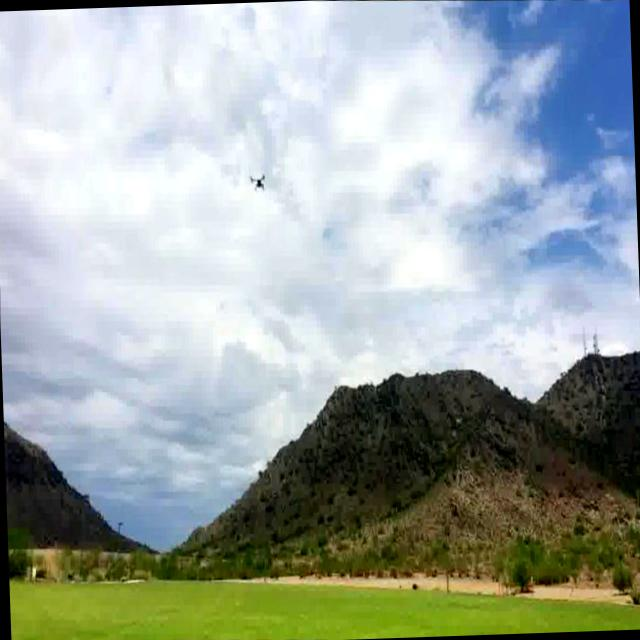drone: (245, 168, 268, 206)
